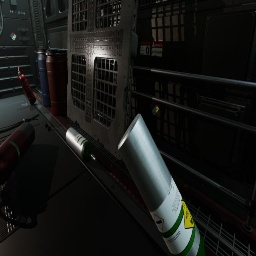0: (118, 114, 205, 256), (66, 127, 97, 163)
FireExtinguisher ]: (18, 66, 36, 105)
NitrogenTank ,: (0, 122, 35, 187)
